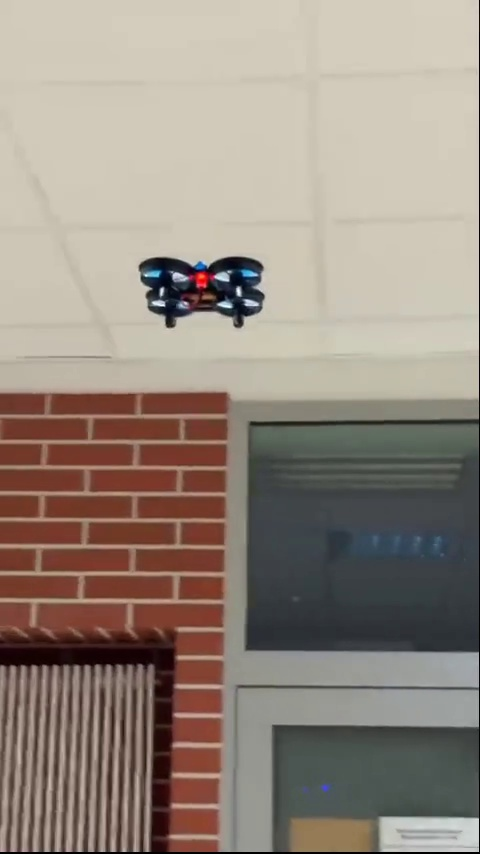drone: (134, 257, 273, 327)
